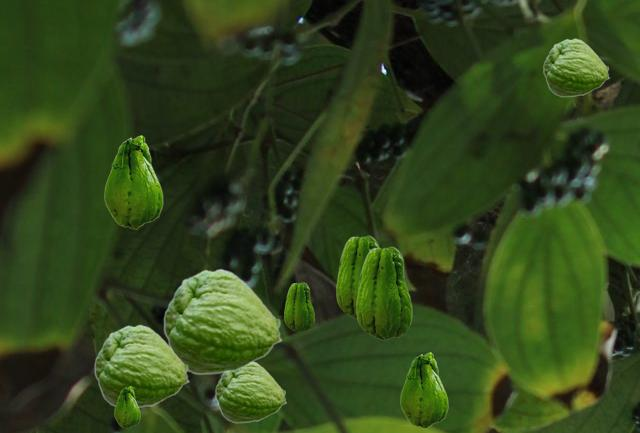sayote: (163, 268, 282, 374), (94, 324, 189, 408), (104, 135, 162, 228), (356, 246, 411, 339), (215, 362, 286, 422), (543, 38, 609, 96), (336, 235, 379, 319), (400, 352, 447, 427), (284, 282, 313, 331), (114, 386, 139, 427)
